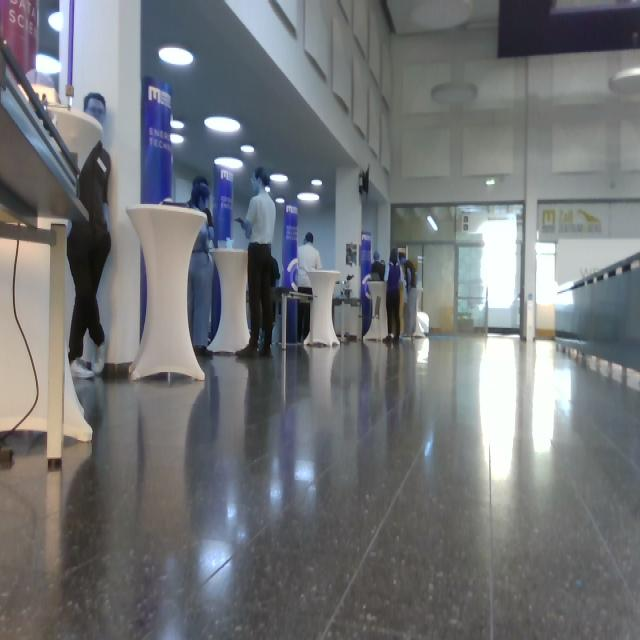light bulb: (431, 82, 478, 108), (609, 66, 640, 96), (159, 47, 194, 67), (205, 116, 241, 133), (36, 53, 62, 76), (215, 157, 244, 170), (48, 12, 64, 32), (297, 192, 320, 202), (427, 216, 439, 232), (270, 175, 288, 183), (171, 133, 184, 144), (171, 120, 185, 129), (241, 145, 255, 153), (311, 179, 323, 187), (485, 178, 495, 185), (276, 197, 285, 204)
person: (67, 93, 112, 380), (234, 167, 277, 359), (297, 232, 323, 342), (384, 248, 403, 341), (399, 253, 417, 338)
table: (125, 203, 211, 387)
tiled floor: (1, 332, 639, 638)
